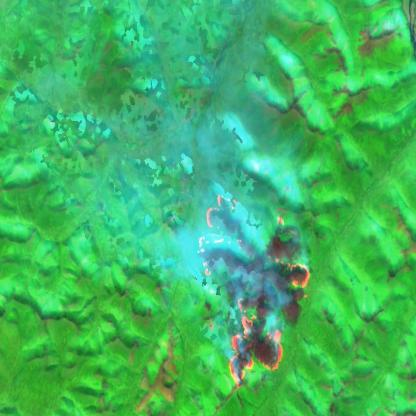fire: (193, 190, 315, 391)
